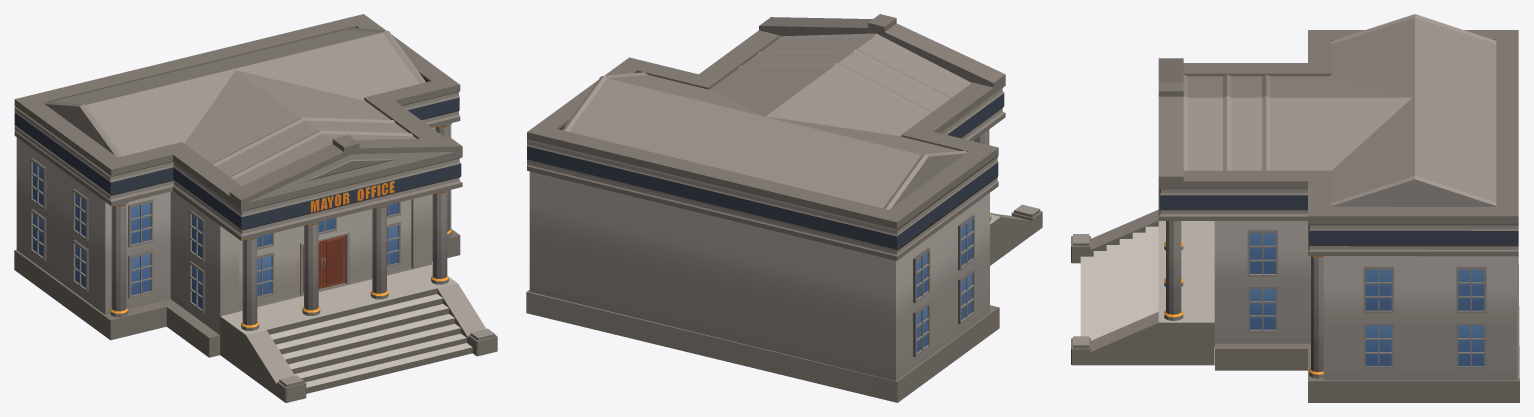
File: Mayor Office.fbx
3 renders of one model, left to right at view 1: azimuth 30°, elevation 25°; view 2: azimuth 150°, elevation 25°; view 3: azimuth 270°, elevation 25°, orthographic. The views are drawn at different scales.
Parts seen in each view (by area): view 1: Mayor_Office; view 2: Mayor_Office; view 3: Mayor_Office.
Part boxes in pixels (<box>): Mayor_Office: <box>14,14,497,402</box>; Mayor_Office: <box>526,14,1042,402</box>; Mayor_Office: <box>1071,14,1519,402</box>.
Bounding box in the file's own units: 1122 × 620 × 1137.
